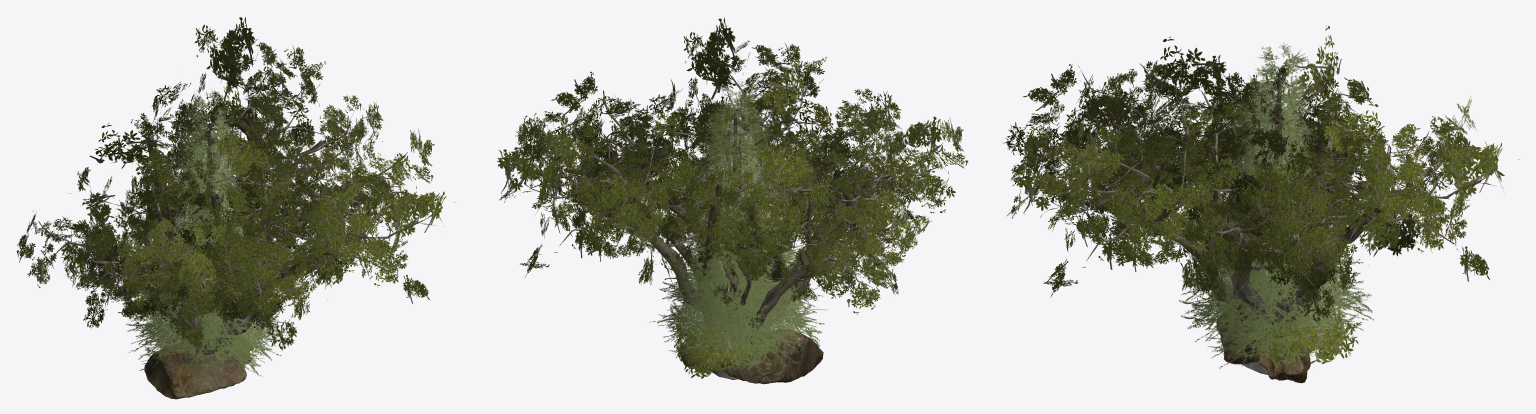
The model's file is vegetation.glb.
3 views of the same model, side by side, from view 1: azimuth 30°, elevation 25°; view 2: azimuth 150°, elevation 25°; view 3: azimuth 270°, elevation 25° (orthographic). The views are drawn at different scales.
Visible parts, largest first — view 1: veg_broad_a, veg_broad_b, veg_palm, veg_conifer, veg_cypress, veg_rock; view 2: veg_broad_b, veg_broad_a, veg_palm, veg_conifer, veg_cypress, veg_rock, veg_bush; view 3: veg_broad_b, veg_broad_a, veg_palm, veg_conifer, veg_cypress, veg_bush, veg_rock.
Part boxes in pixels (x1,y1,x2,y2): veg_broad_a: [70, 123, 455, 356]; veg_broad_b: [116, 17, 434, 340]; veg_palm: [16, 114, 289, 351]; veg_conifer: [126, 130, 292, 379]; veg_cypress: [139, 90, 277, 376]; veg_rock: [144, 336, 251, 399]; veg_broad_b: [497, 48, 833, 379]; veg_broad_a: [626, 17, 968, 371]; veg_palm: [658, 103, 942, 379]; veg_conifer: [650, 119, 826, 376]; veg_cypress: [667, 80, 809, 382]; veg_rock: [678, 329, 823, 384]; veg_bush: [672, 307, 759, 378]; veg_broad_b: [1128, 36, 1519, 374]; veg_broad_a: [1002, 26, 1372, 373]; veg_palm: [1076, 60, 1397, 340]; veg_conifer: [1179, 81, 1373, 377]; veg_cypress: [1192, 42, 1356, 368]; veg_bush: [1248, 306, 1361, 364]; veg_rock: [1216, 309, 1314, 383].
Bounding box in the file's own units: 4.65 × 3.3 × 4.77.
6 materials, 6 textured.
